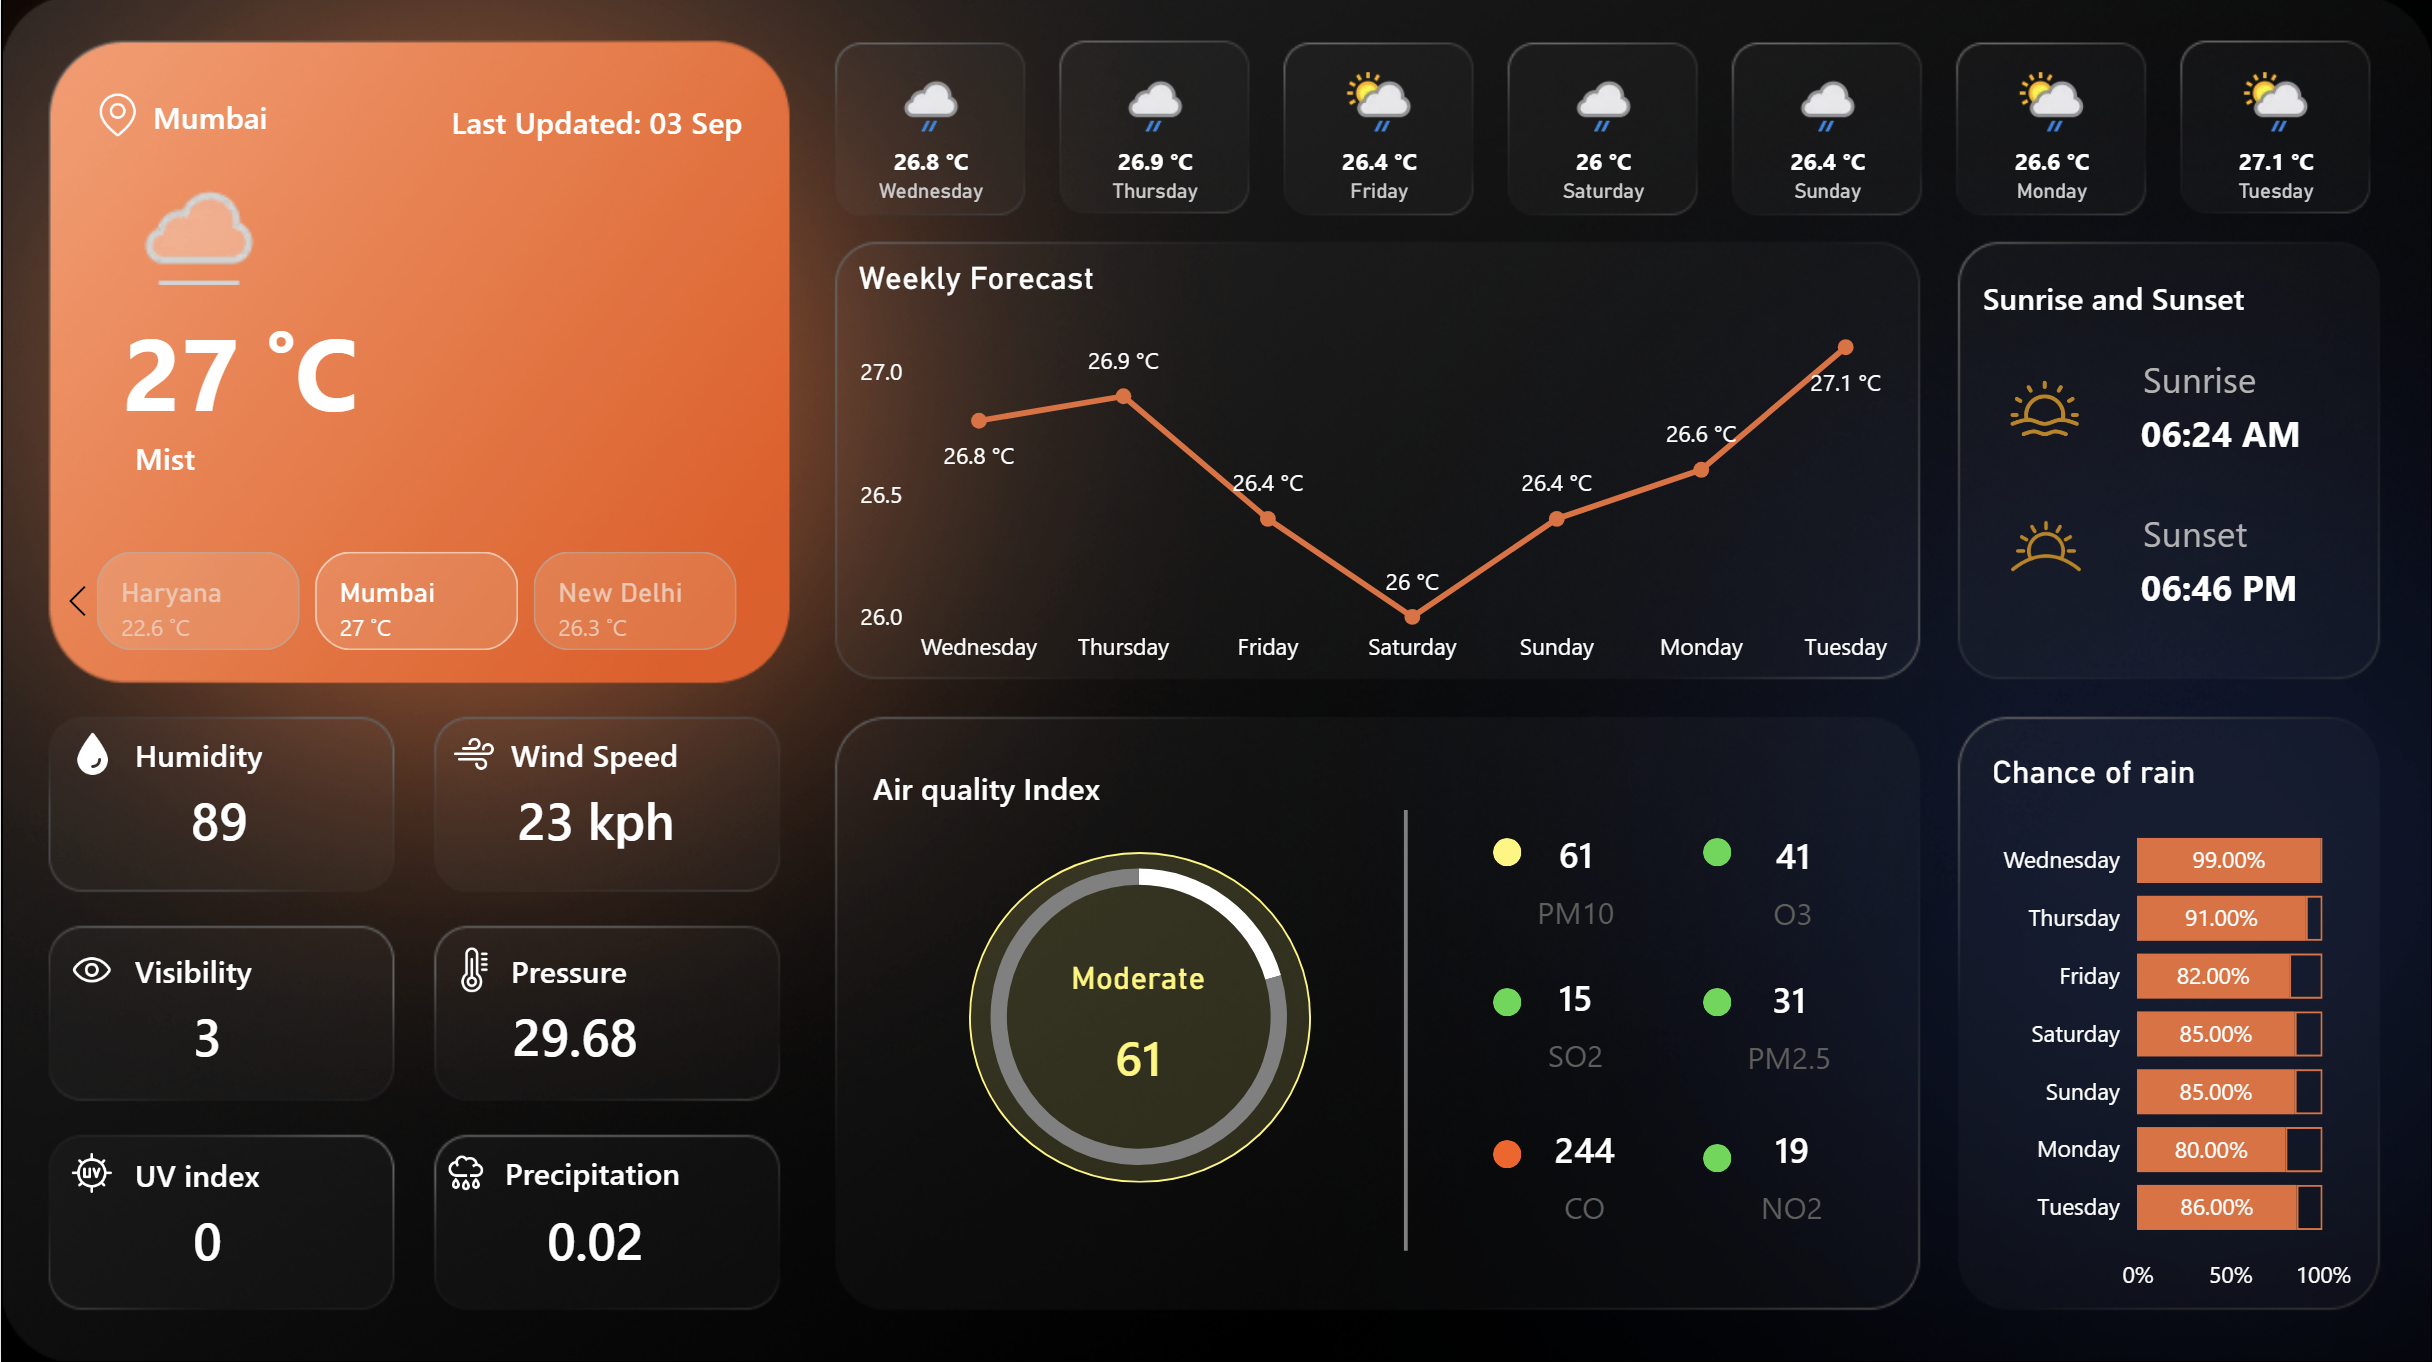

This screenshot's page, from the dashboard's own definition file:
{"tool":"powerbi","page":{"name":"Page 1","canvas":[1280,720],"ordinal":0},"visuals":[{"type":"shape","box":[509.2,449.2,180,174.2],"z":0},{"type":"donutChart","fields":{"Y":["Sum(current.current.air_quality.pm10)","_measures.left_value_PM10"]},"box":[486.7,433.3,225,205],"z":1000},{"type":"advancedSlicerVisual","fields":{"Values":["location.location.name"]},"box":[24.8,286.6,389.8,62.5],"z":2000},{"type":"shape","box":[64.3,140,222.9,111.4],"z":3000},{"type":"shape","box":[70,224.2,310,34.2],"z":4000},{"type":"shape","box":[80,45,155.8,33.3],"z":5000},{"type":"shape","box":[226.7,47.3,164,34],"z":6000},{"type":"image","box":[43.3,45,36.7,32.5],"z":7000},{"type":"cardVisual","fields":{"Data":["Min(current.current.condition.icon)"]},"box":[43.3,64.2,105,92.5],"z":8000},{"type":"image","box":[29.2,380.8,37.5,33.3],"z":9000},{"type":"image","box":[228.3,601.7,32.5,32.5],"z":10000},{"type":"image","box":[228.3,495,41.7,33.3],"z":11000},{"type":"image","box":[30.8,601.7,34.2,32.5],"z":12000},{"type":"image","box":[30,495,34.2,33.3],"z":13000},{"type":"image","box":[232.5,380.8,32.5,33.3],"z":14000},{"type":"shape","box":[70.8,380.8,87.5,33.3],"z":15000},{"type":"shape","box":[70,495,105.8,33.3],"z":16000},{"type":"shape","box":[268.3,380.8,122.5,33.3],"z":17000},{"type":"shape","box":[268.3,495,88.3,33.3],"z":18000},{"type":"shape","box":[70.8,601.7,87.5,33.3],"z":19000},{"type":"shape","box":[265,600.8,102.5,33.3],"z":20000},{"type":"card","fields":{"Values":["Sum(current.current.humidity)"]},"box":[92.2,414.4,44.4,37.8],"z":21000},{"type":"card","fields":{"Values":["_measures.wind_speed"]},"box":[253.3,414.4,118.9,37.8],"z":22000},{"type":"card","fields":{"Values":["Sum(current.current.vis_km)"]},"box":[86.7,528.9,44.4,37.8],"z":23000},{"type":"card","fields":{"Values":["Sum(current.current.pressure_in)"]},"box":[261.1,528.9,82.2,37.8],"z":24000},{"type":"card","fields":{"Values":["Sum(current.current.uv)"]},"box":[86.7,635.6,44.4,37.8],"z":25000},{"type":"card","fields":{"Values":["Sum(current.current.precip_in)"]},"box":[268.9,635.6,88.9,37.8],"z":26000},{"type":"advancedSlicerVisual","fields":{"Values":["forecast_day.day_name"]},"box":[429.5,26.9,828.2,98.7],"z":27000},{"type":"lineChart","title":"Weekly Forecast","fields":{"Y":["Sum(forecast_day.forecast.forecastday.day.avgtemp_c)"],"Category":["forecast_day.day_name"]},"box":[446,138,560,222],"z":28000},{"type":"shape","box":[1043,140,156,34],"z":29000},{"type":"shape","box":[1126,205,94,46],"z":30000},{"type":"shape","box":[1125.9,286.7,94,46.4],"z":31000},{"type":"shape","box":[1127.1,177.2,94,46.4],"z":32000},{"type":"shape","box":[1127.1,258.1,94,46.4],"z":33000},{"type":"image","box":[1046,259,60,59],"z":34000},{"type":"image","box":[1053,190,46,51],"z":35000},{"type":"hundredPercentStackedBarChart","title":"Chance of rain","fields":{"Y":["Sum(forecast_day.forecast.forecastday.day.daily_chance_of_rain)","_measures.left_value_rain"],"Category":["forecast_day.day_name"]},"box":[1043.6,397.4,198.7,292.3],"z":36000},{"type":"shape","box":[459,397.4,156.4,34.6],"z":37000},{"type":"card","fields":{"Values":["Sum(current.current.air_quality.o3)"]},"box":[907.7,423.7,71.8,79.5],"z":38000},{"type":"card","fields":{"Values":["Sum(current.current.air_quality.pm2_5)"]},"box":[895.8,500,90.8,79.2],"z":39000},{"type":"card","fields":{"Values":["Sum(current.current.air_quality.no2)"]},"box":[896.2,578.8,93.6,79.5],"z":40000},{"type":"card","fields":{"Values":["Sum(current.current.air_quality.co)"]},"box":[784.6,578.8,98.7,79.5],"z":41000},{"type":"card","fields":{"Values":["Sum(current.current.air_quality.so2)"]},"box":[788.5,499.4,80.8,79.5],"z":42000},{"type":"card","fields":{"Values":["Sum(current.current.air_quality.pm10)"]},"box":[795,425.8,68.3,74.2],"z":43000},{"type":"shape","box":[785,442.5,15,15],"z":44000},{"type":"shape","box":[895.8,603.3,15,15],"z":45000},{"type":"shape","box":[895.8,442.5,15,15],"z":46000},{"type":"shape","box":[785,520.8,15,15],"z":47000},{"type":"shape","box":[895.8,520.8,15,15],"z":48000},{"type":"shape","box":[785,600.8,15,15],"z":49000},{"type":"shape","box":[661.1,427.8,156.7,232.2],"z":50000},{"type":"card","fields":{"Values":["Sum(current.current.air_quality.pm10)"]},"box":[547.5,506.7,102.5,85.8],"z":51000}]}

Visuals, with their boxes in screenshot pixels (x1, y1, x2, y2), scaled from the page's 1280x720 canvas onto the 2432x1362 screenshot:
shape: region(967, 850, 1309, 1179)
donutChart - Sum(current.current.air_quality.pm10) x _measures.left_value_PM10: region(925, 820, 1352, 1207)
advancedSlicerVisual - location.location.name: region(47, 542, 788, 660)
shape: region(122, 265, 546, 476)
shape: region(133, 424, 722, 489)
shape: region(152, 85, 448, 148)
shape: region(431, 89, 742, 154)
image: region(82, 85, 152, 147)
cardVisual - Min(current.current.condition.icon): region(82, 121, 282, 296)
image: region(55, 720, 127, 783)
image: region(434, 1138, 496, 1200)
image: region(434, 936, 513, 999)
image: region(59, 1138, 124, 1200)
image: region(57, 936, 122, 999)
image: region(442, 720, 504, 783)
shape: region(135, 720, 301, 783)
shape: region(133, 936, 334, 999)
shape: region(510, 720, 743, 783)
shape: region(510, 936, 678, 999)
shape: region(135, 1138, 301, 1201)
shape: region(504, 1137, 698, 1200)
card - Sum(current.current.humidity): region(175, 784, 260, 855)
card - _measures.wind_speed: region(481, 784, 707, 855)
card - Sum(current.current.vis_km): region(165, 1001, 249, 1072)
card - Sum(current.current.pressure_in): region(496, 1001, 652, 1072)
card - Sum(current.current.uv): region(165, 1202, 249, 1274)
card - Sum(current.current.precip_in): region(511, 1202, 680, 1274)
advancedSlicerVisual - forecast_day.day_name: region(816, 51, 2390, 238)
"Weekly Forecast" lineChart: region(847, 261, 1911, 681)
shape: region(1982, 265, 2278, 329)
shape: region(2139, 388, 2318, 475)
shape: region(2139, 542, 2318, 630)
shape: region(2141, 335, 2320, 423)
shape: region(2141, 488, 2320, 576)
image: region(1987, 490, 2101, 602)
image: region(2001, 359, 2088, 456)
"Chance of rain" hundredPercentStackedBarChart: region(1983, 752, 2360, 1305)
shape: region(872, 752, 1169, 817)
card - Sum(current.current.air_quality.o3): region(1725, 801, 1861, 952)
card - Sum(current.current.air_quality.pm2_5): region(1702, 946, 1875, 1096)
card - Sum(current.current.air_quality.no2): region(1703, 1095, 1881, 1245)
card - Sum(current.current.air_quality.co): region(1491, 1095, 1678, 1245)
card - Sum(current.current.air_quality.so2): region(1498, 945, 1652, 1095)
card - Sum(current.current.air_quality.pm10): region(1510, 805, 1640, 946)
shape: region(1492, 837, 1520, 865)
shape: region(1702, 1141, 1731, 1170)
shape: region(1702, 837, 1731, 865)
shape: region(1492, 985, 1520, 1014)
shape: region(1702, 985, 1731, 1014)
shape: region(1492, 1137, 1520, 1165)
shape: region(1256, 809, 1554, 1248)
card - Sum(current.current.air_quality.pm10): region(1040, 959, 1235, 1121)
